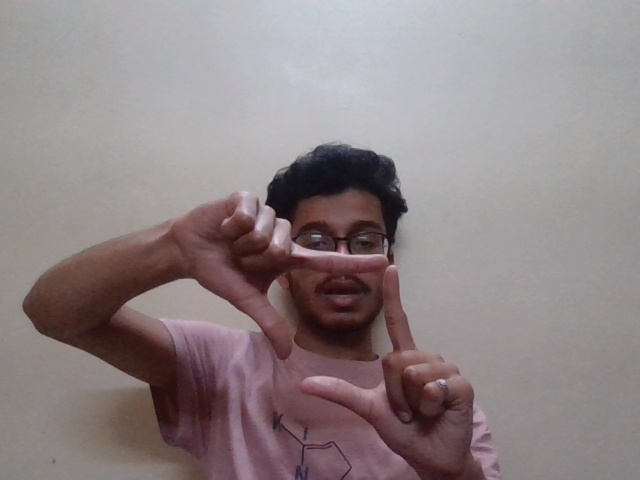video: (166, 182, 486, 469)
